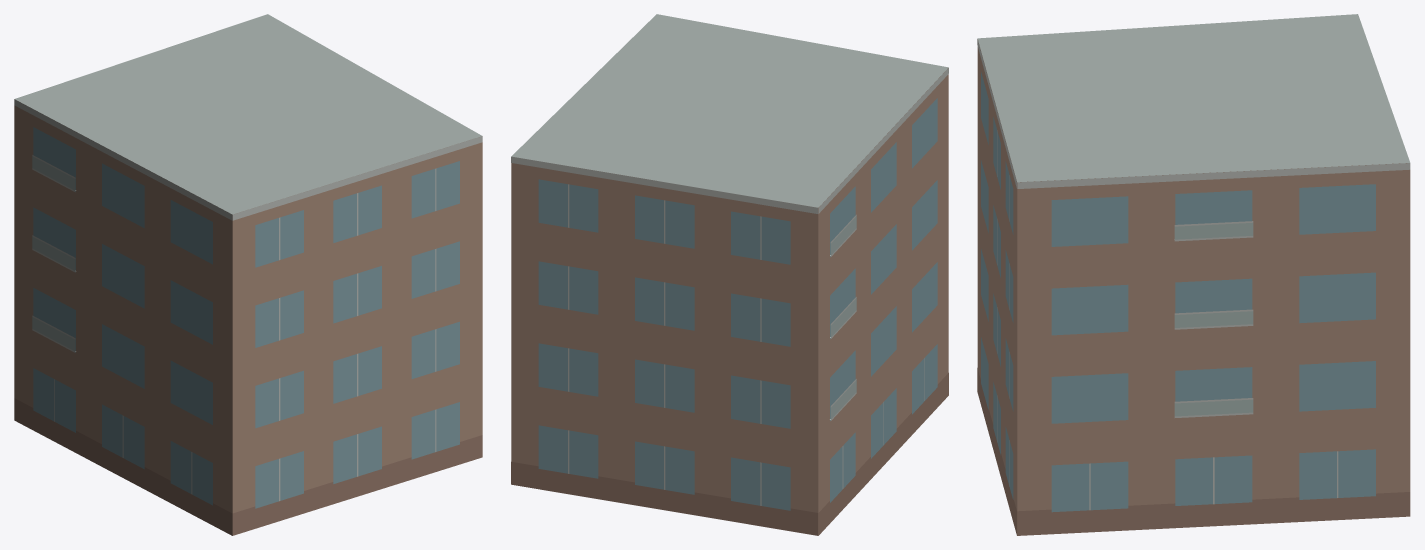
The model's file is survey-upis-32739219.glb.
The picture shows the model from 3 angles, left to right: view 1: azimuth 30°, elevation 25°; view 2: azimuth 150°, elevation 25°; view 3: azimuth 270°, elevation 25°; orthographic projection. The views are drawn at different scales.
Visible parts, largest first — view 1: survey-upis-32739219.tmp; view 2: survey-upis-32739219.tmp; view 3: survey-upis-32739219.tmp.
Boxes of the visible parts, box(x1,y1,x2,y2) form: survey-upis-32739219.tmp: box(14, 14, 482, 535); survey-upis-32739219.tmp: box(511, 14, 948, 535); survey-upis-32739219.tmp: box(977, 14, 1410, 535).
Bounding box in the file's own units: 12.8 × 12.53 × 13.91.
